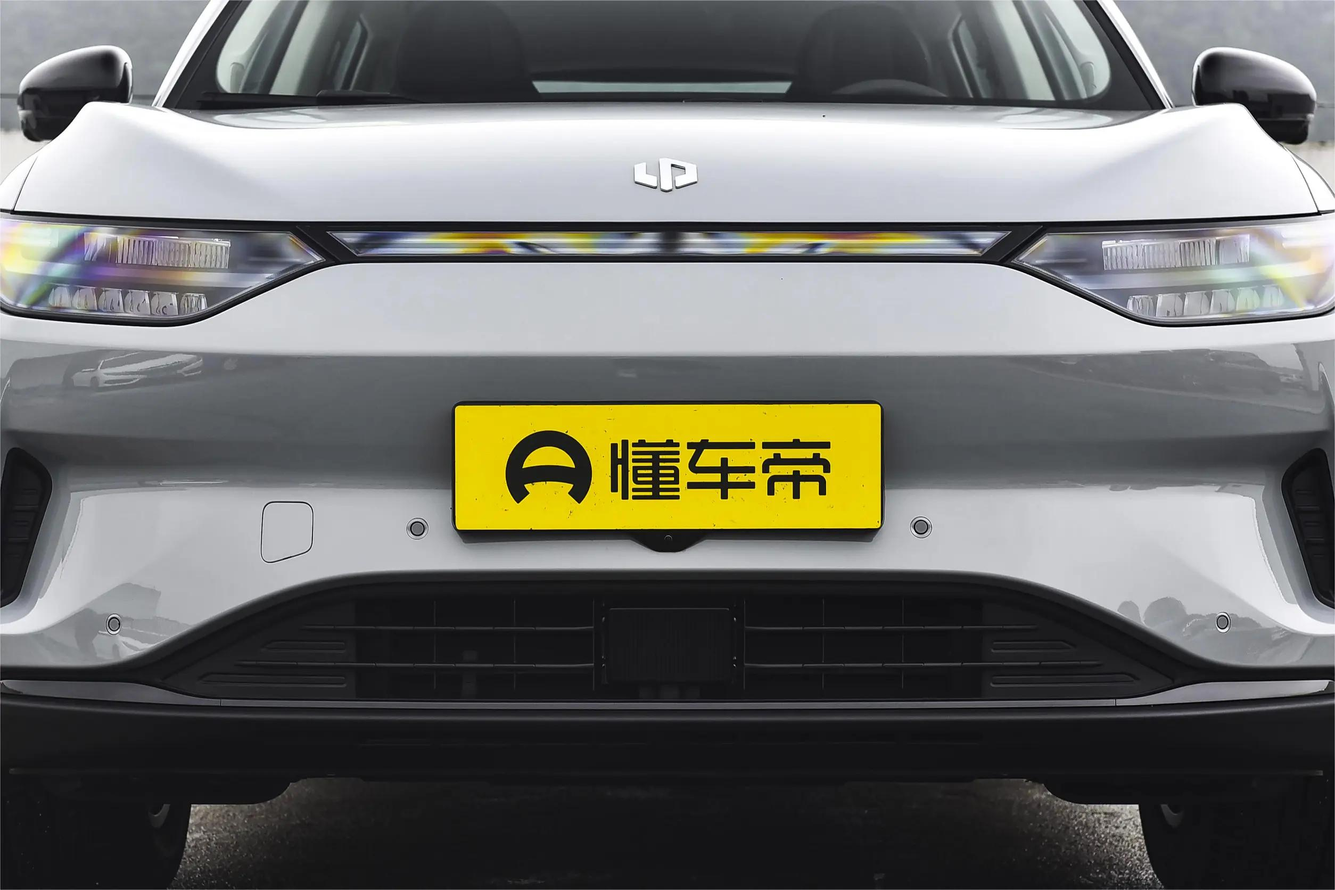LEAPMOTOR: (634, 156, 698, 194)
